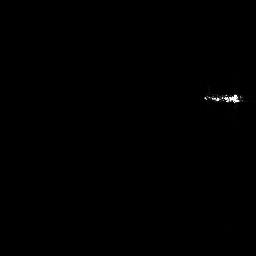ship: (202, 90, 245, 106)
